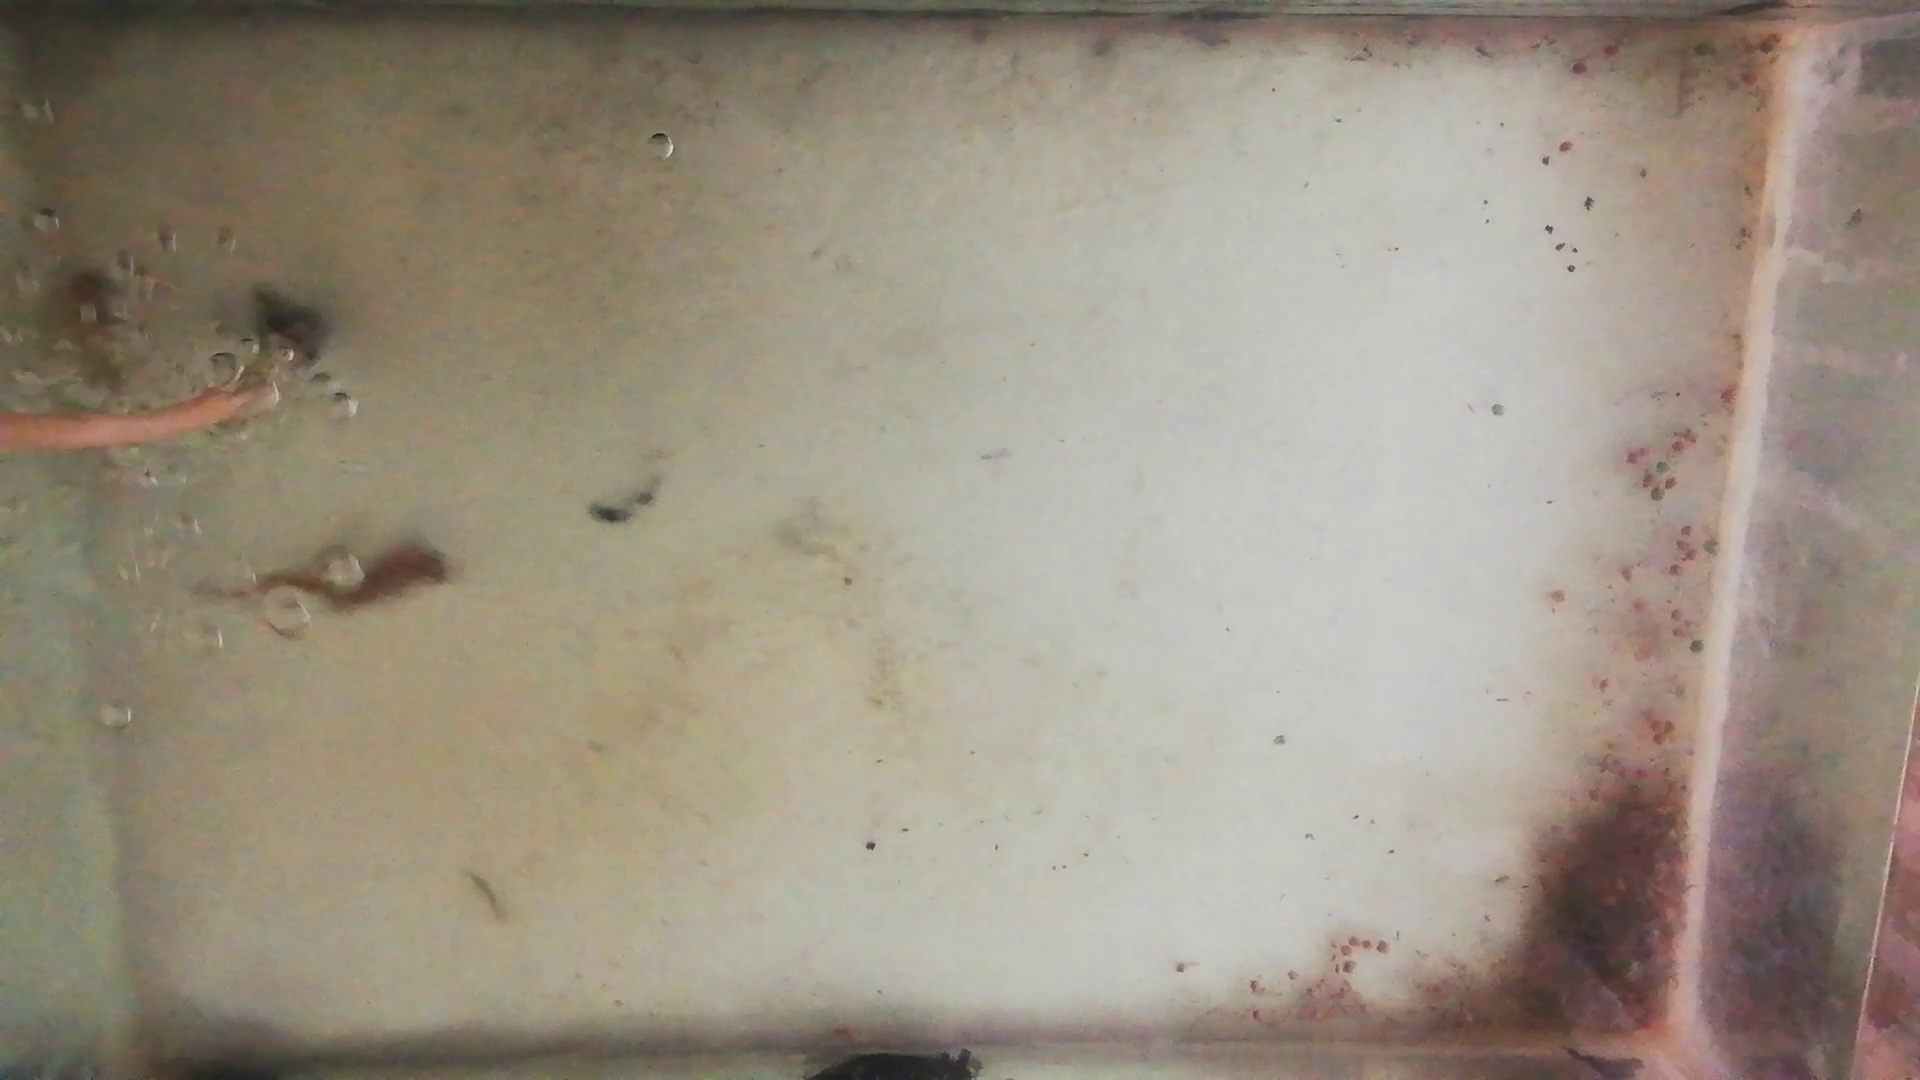fish: (199, 545, 452, 613), (63, 269, 128, 409)
